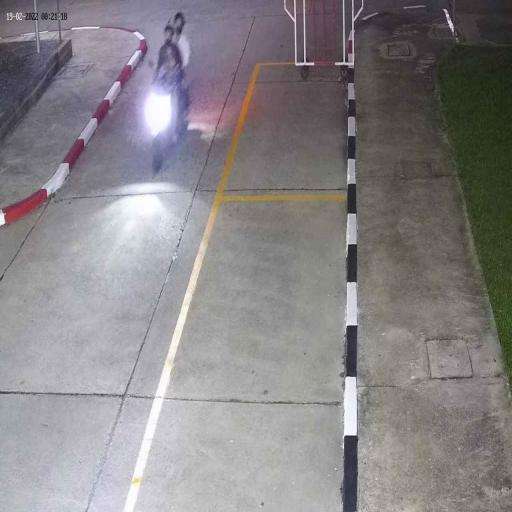motorcycle: (141, 58, 195, 176)
